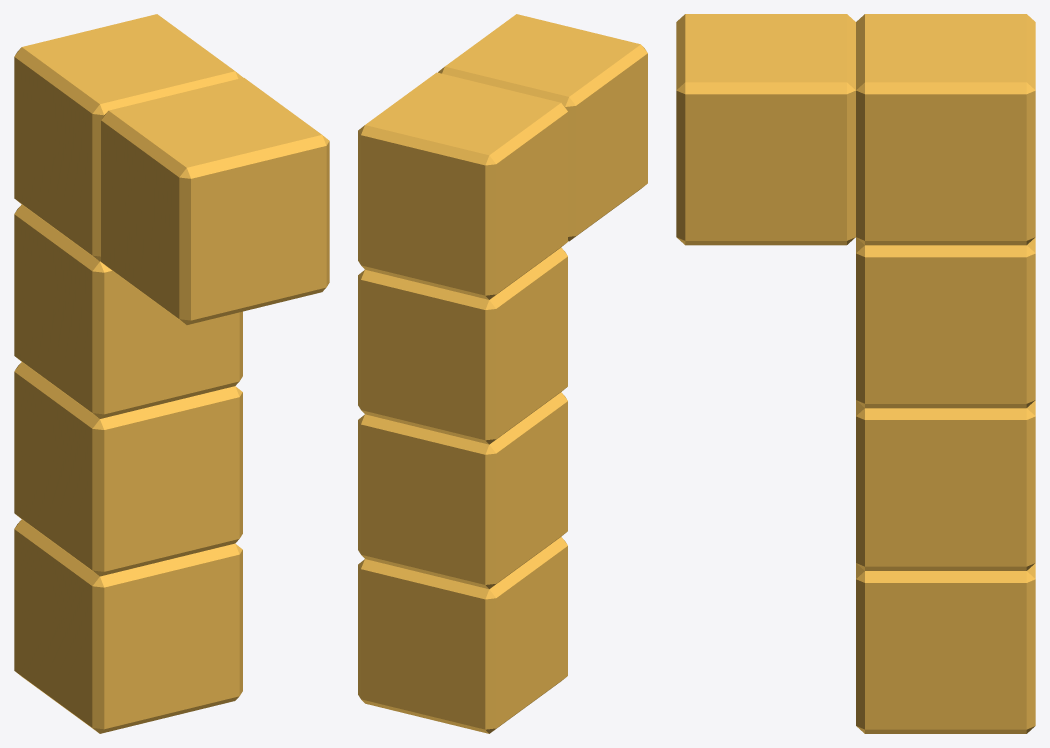
3 renders of one model, left to right at view 1: azimuth 30°, elevation 25°; view 2: azimuth 150°, elevation 25°; view 3: azimuth 270°, elevation 25°, orthographic. The views are drawn at different scales.
Visible parts, largest first — view 1: geo1; view 2: geo1; view 3: geo1.
Part boxes in pixels (bbox=[...]): geo1: bbox=[14, 14, 329, 733]; geo1: bbox=[358, 14, 647, 733]; geo1: bbox=[676, 14, 1035, 733].
Bounding box in the file's own units: 1 × 4 × 2.
